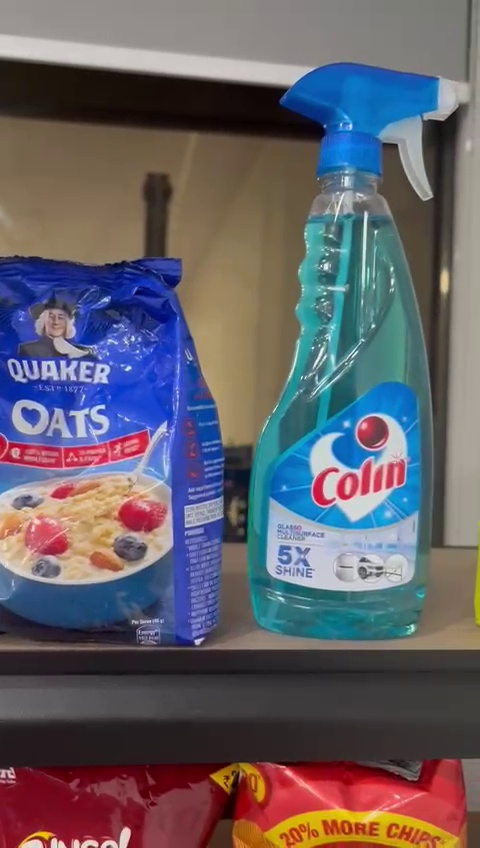Colin: (245, 44, 469, 636)
Quaker Oats: (1, 251, 226, 648)
